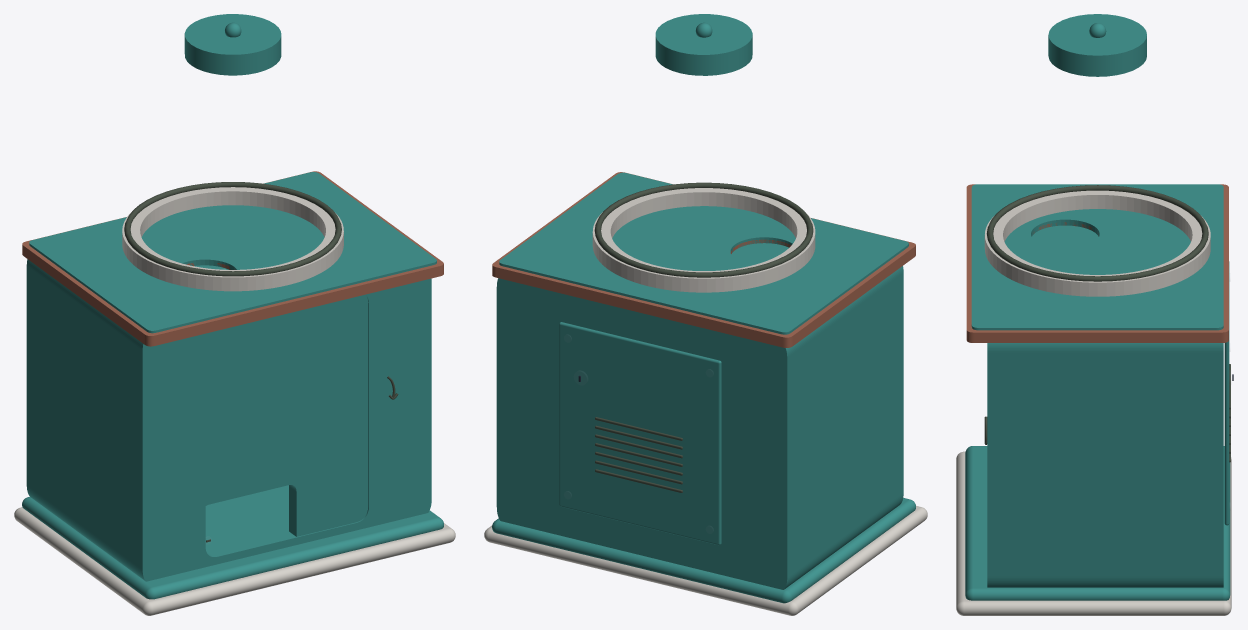
File: machine-garden-study.glb
The picture shows the model from 3 angles, left to right: view 1: azimuth 30°, elevation 25°; view 2: azimuth 150°, elevation 25°; view 3: azimuth 270°, elevation 25°; orthographic projection.
Visible parts, largest first — view 1: CabinetShell_Batch0; view 2: CabinetShell_Batch0; view 3: CabinetShell_Batch0.
Part boxes in pixels (left/top/right/bottom): CabinetShell_Batch0: left=14, top=14, right=455, bottom=615; CabinetShell_Batch0: left=484, top=14, right=927, bottom=615; CabinetShell_Batch0: left=956, top=14, right=1233, bottom=615.
Size of what is drawn, in the model's own units: 0.283 by 0.4465 by 0.2137.
